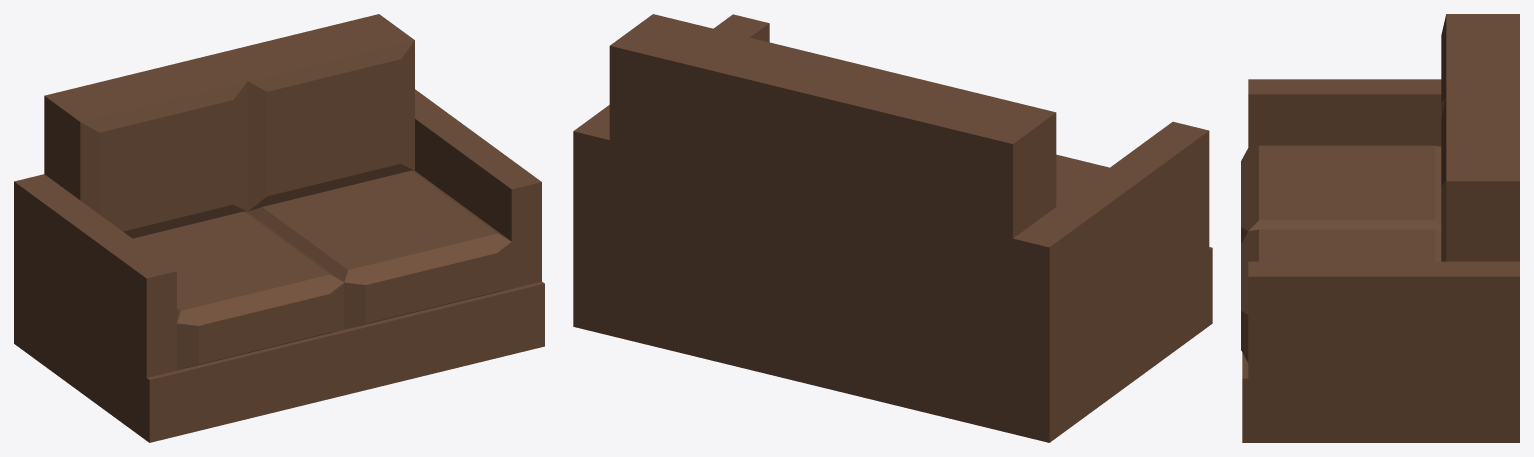
The model's file is Sofa2.fbx.
3 renders of one model, left to right at view 1: azimuth 30°, elevation 25°; view 2: azimuth 150°, elevation 25°; view 3: azimuth 270°, elevation 25°, orthographic. The views are drawn at different scales.
Visible parts, largest first — view 1: Cube; view 2: Cube; view 3: Cube.
Boxes of the visible parts, x1,y1,x2,y2 form: Cube: [14, 14, 544, 442]; Cube: [573, 14, 1212, 442]; Cube: [1241, 14, 1519, 442].
Bounding box in the file's own units: 2.36 × 1.37 × 1.41.
